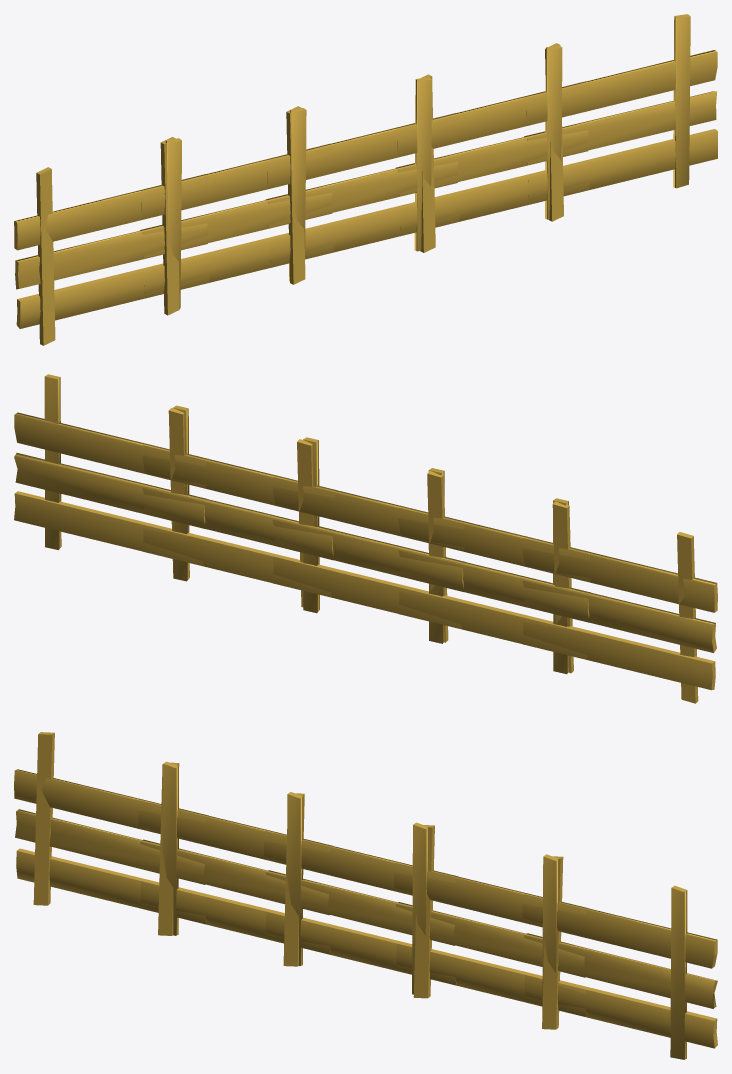
Rendered from fence_5_brown.dae.
3 views of the same model, one above another, from view 1: azimuth 30°, elevation 25°; view 2: azimuth 150°, elevation 25°; view 3: azimuth 330°, elevation 25° (orthographic).
Parts seen in each view (by area): view 1: Cube; view 2: Cube; view 3: Cube.
Boxes of the visible parts, x1,y1,x2,y2 form: Cube: (14,14,717,345); Cube: (14,374,717,703); Cube: (14,732,717,1059).
Bounding box in the file's own units: 7.29 × 0.15 × 1.7.
